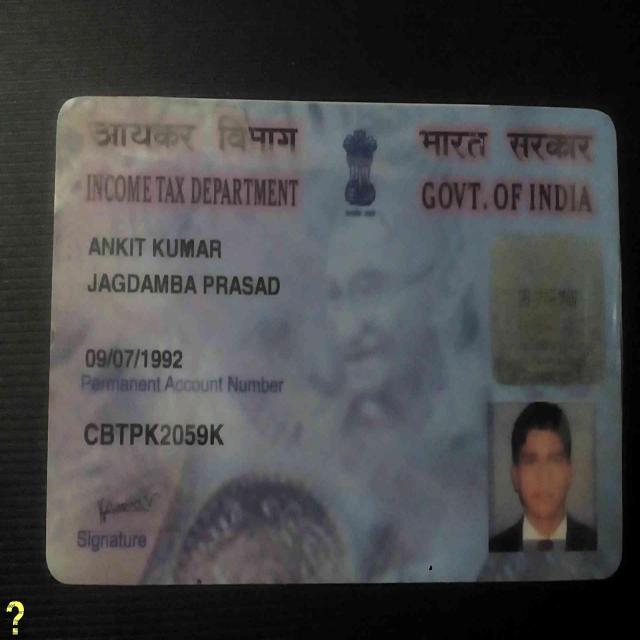pan_card: (52, 102, 616, 582)
